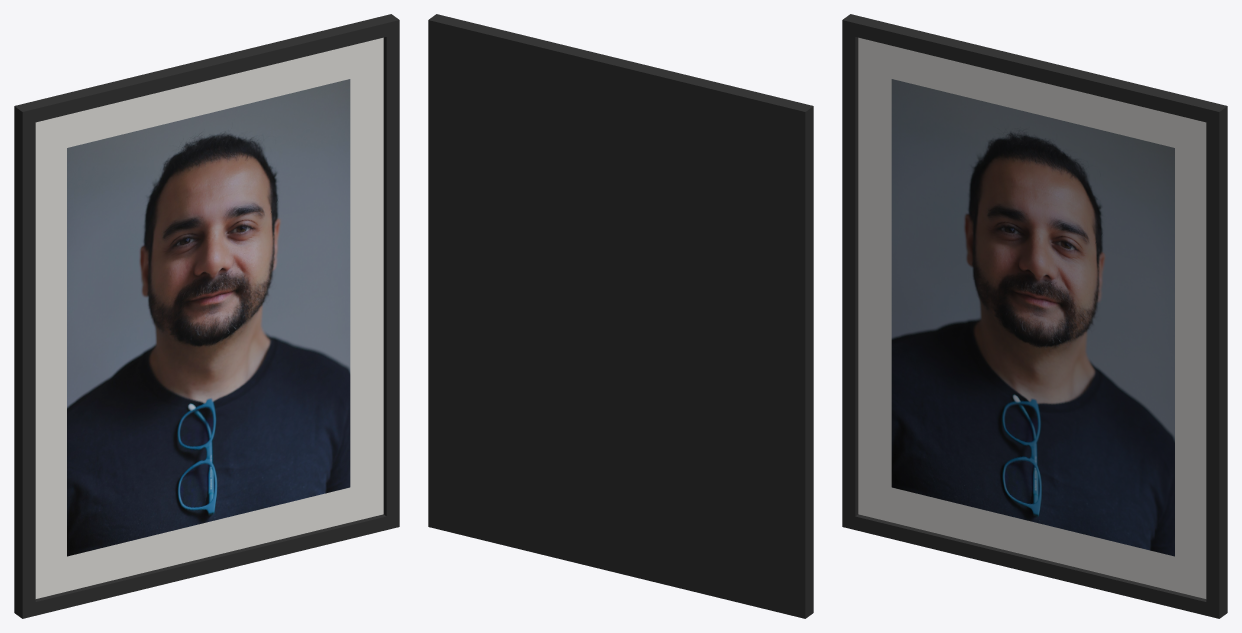
File: glasogonen-60.gltf
The picture shows the model from 3 angles, left to right: view 1: azimuth 30°, elevation 25°; view 2: azimuth 150°, elevation 25°; view 3: azimuth 330°, elevation 25°; orthographic projection.
Parts seen in each view (by area): view 1: tavla; view 2: tavla; view 3: tavla.
Boxes of the visible parts, x1,y1,x2,y2 form: tavla: (14,14,399,618); tavla: (428,14,813,618); tavla: (842,14,1227,618).
Size of the model in its own units: 0.5798 by 0.7445 by 0.022.
3 materials, 1 textured.
